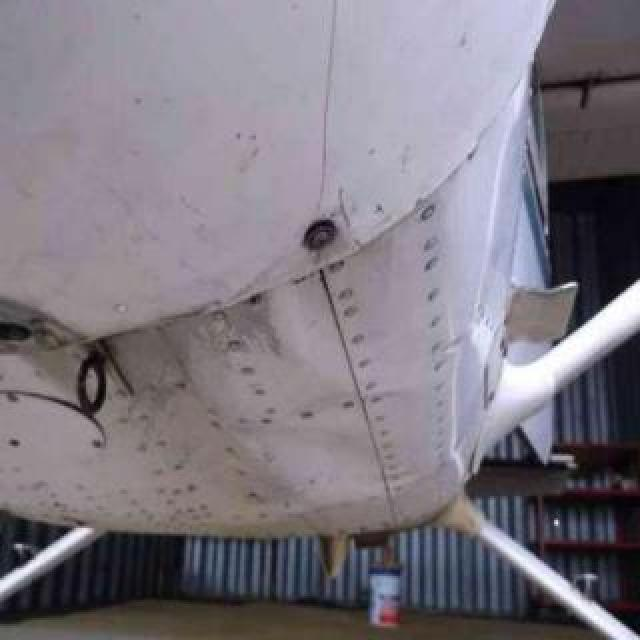crack: (311, 1, 343, 223)
